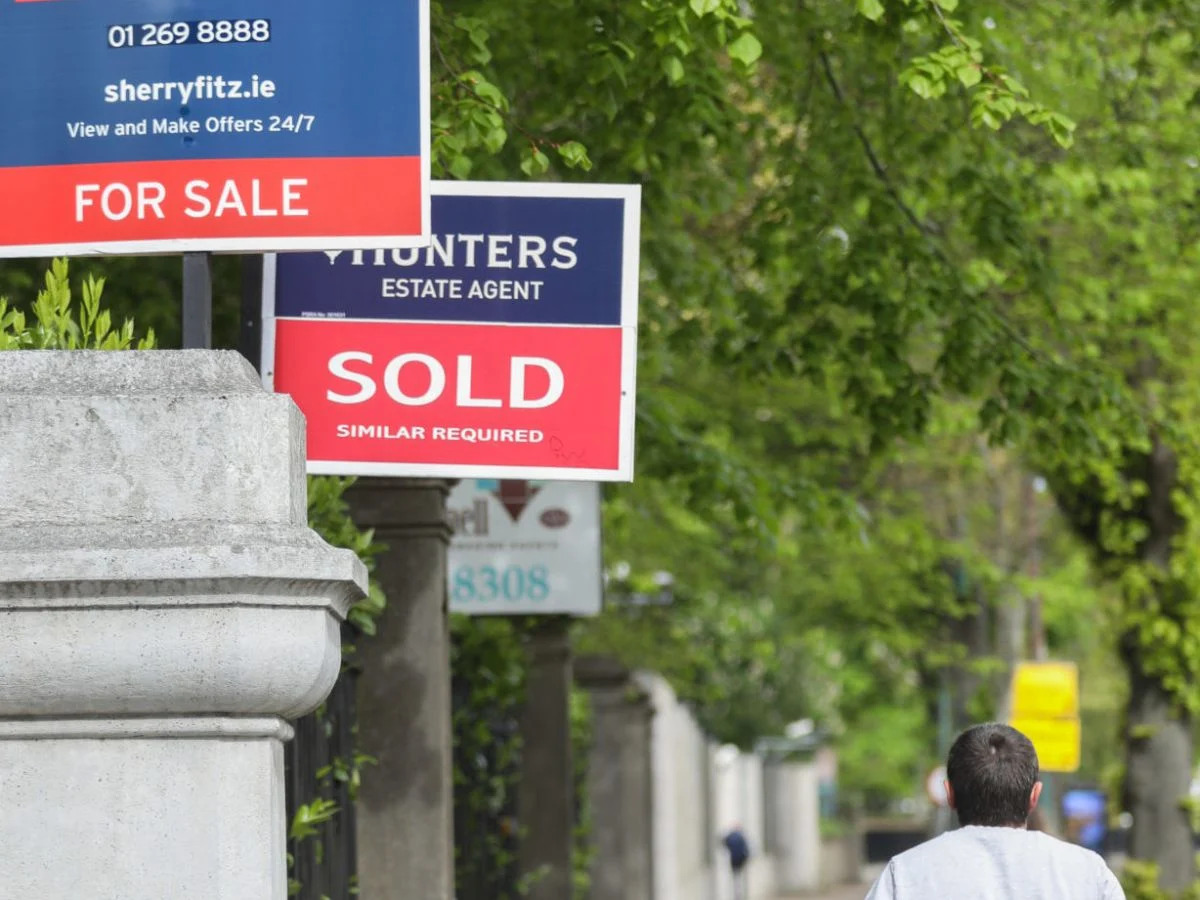property sign: (271, 182, 652, 492), (1, 1, 435, 270)
